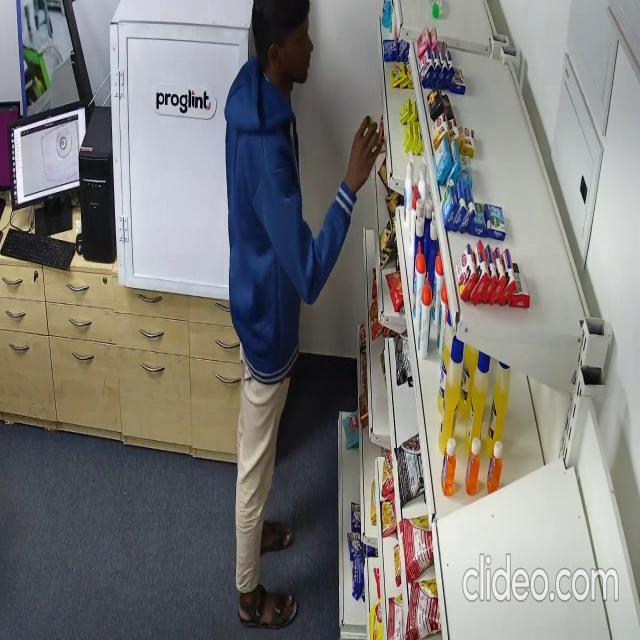normal: (221, 0, 383, 640)
